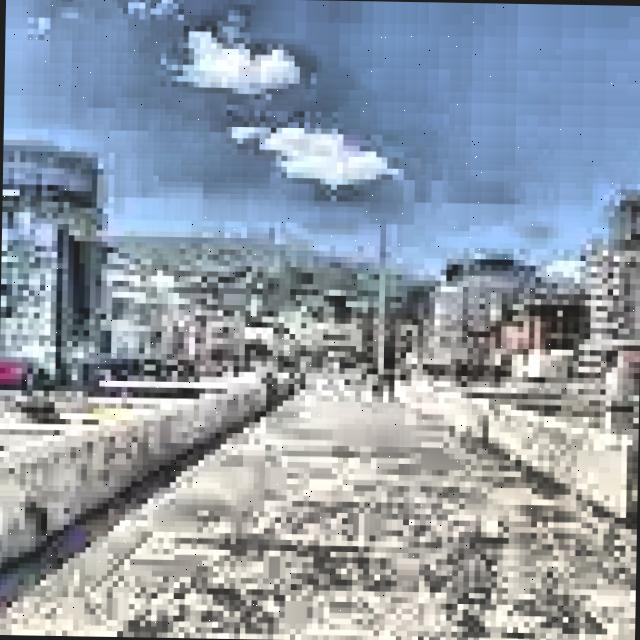alexander the great monument: (312, 258, 368, 379)
stone bridge: (0, 352, 639, 640)
